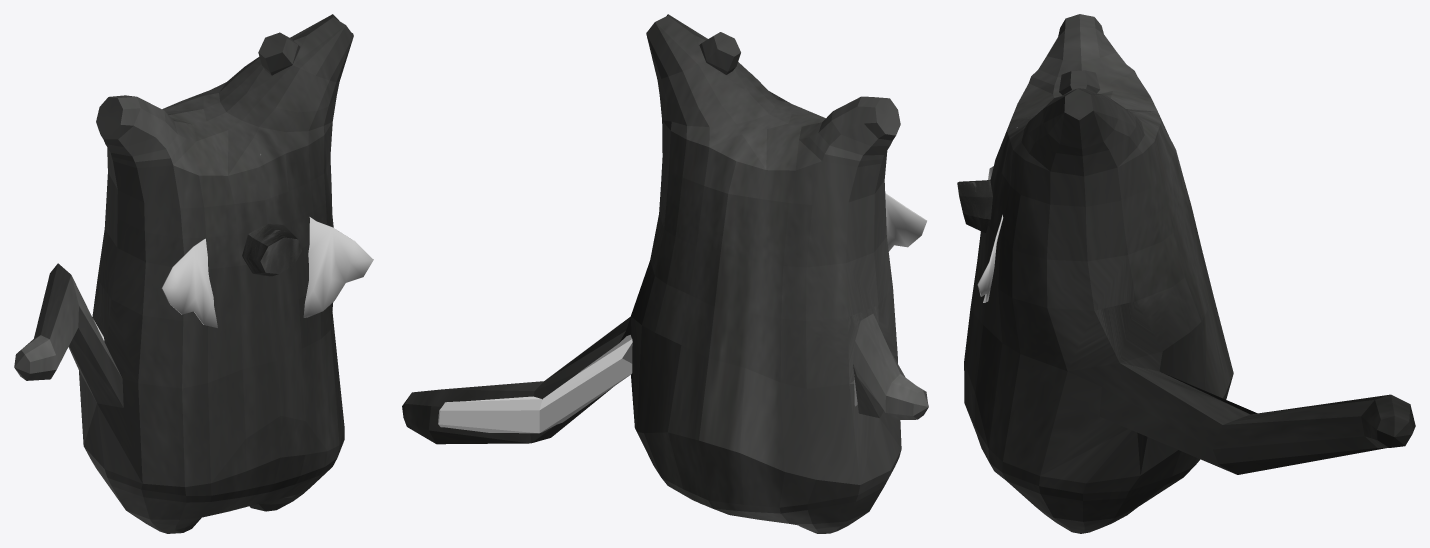
Rendered from frame_0038.obj.
The picture shows the model from 3 angles, left to right: view 1: azimuth 30°, elevation 25°; view 2: azimuth 150°, elevation 25°; view 3: azimuth 270°, elevation 25°; orthographic projection.
Visible parts, largest first — view 1: korok, leaf, nose; view 2: korok, leaf; view 3: korok, nose, leaf.
Part boxes in pixels (bbox=[...]): korok: bbox=[14, 14, 353, 533]; leaf: bbox=[161, 154, 373, 327]; nose: bbox=[242, 223, 301, 276]; korok: bbox=[402, 14, 928, 533]; leaf: bbox=[801, 107, 926, 251]; korok: bbox=[964, 14, 1415, 533]; nose: bbox=[957, 179, 992, 232]; leaf: bbox=[977, 127, 1017, 302].
Bounding box in the file's own units: 1.96 × 2.25 × 1.98.
